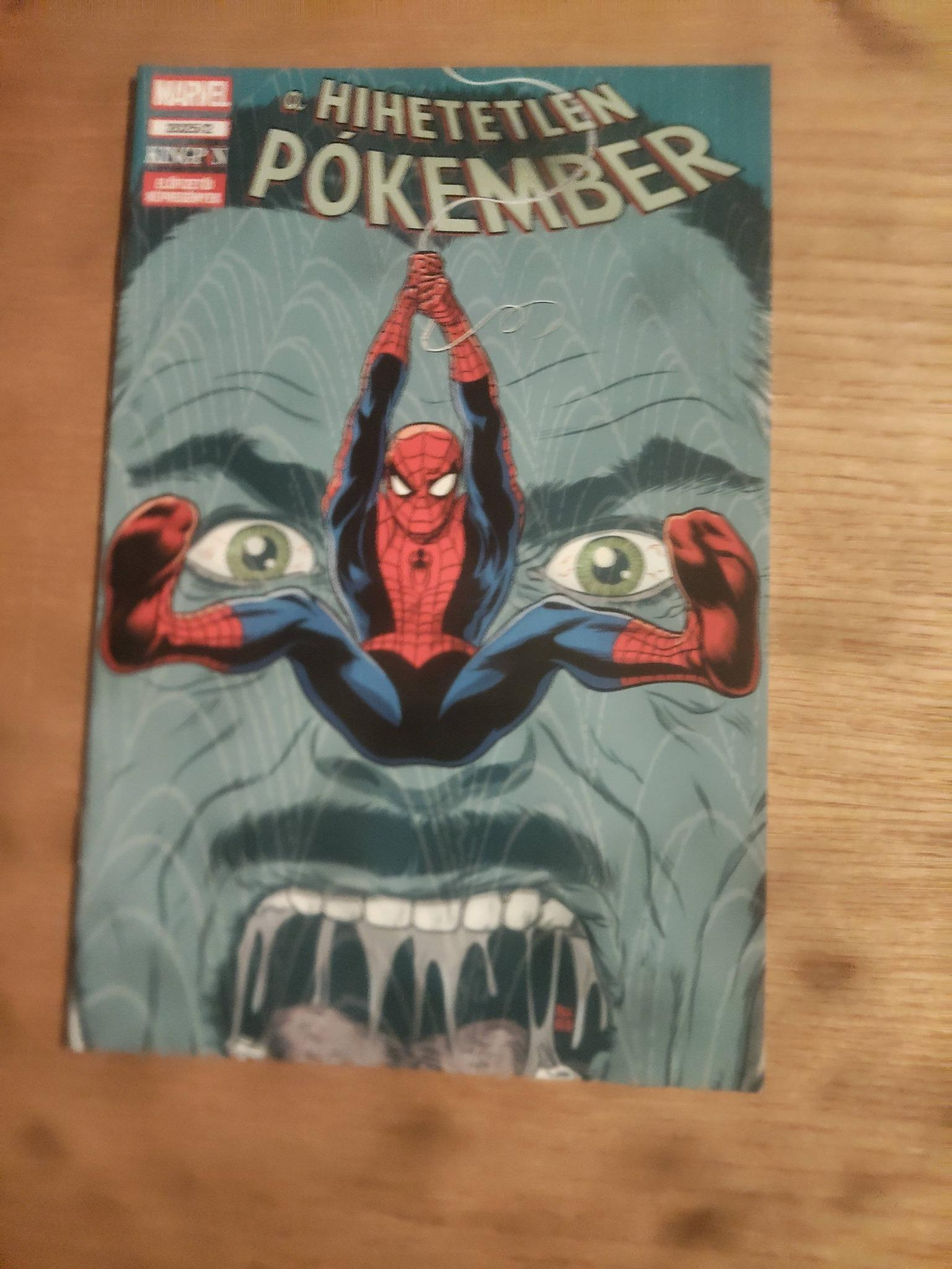comic: (68, 41, 801, 1088)
